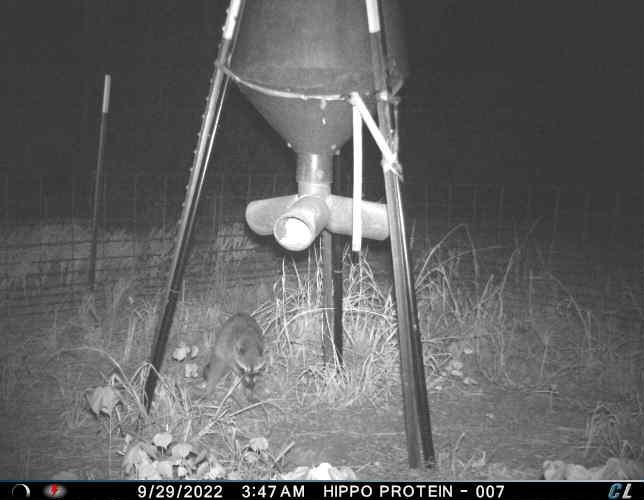Raccoon: (197, 309, 270, 393)
